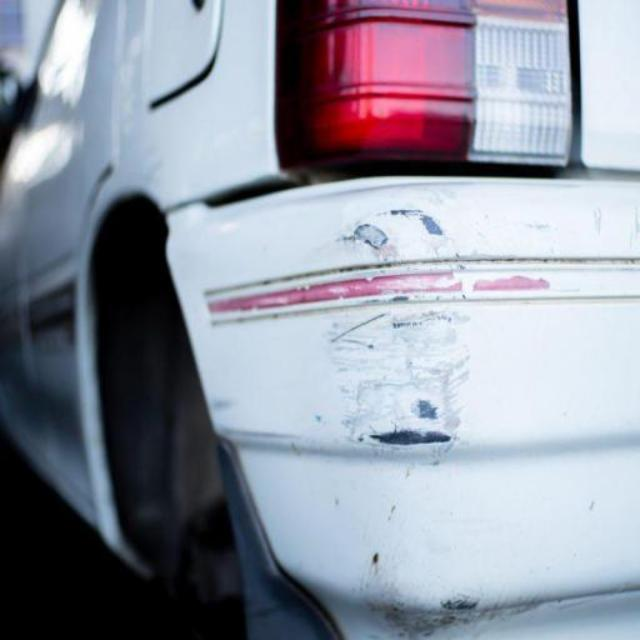dent: (330, 209, 474, 457)
rub: (360, 552, 542, 636)
